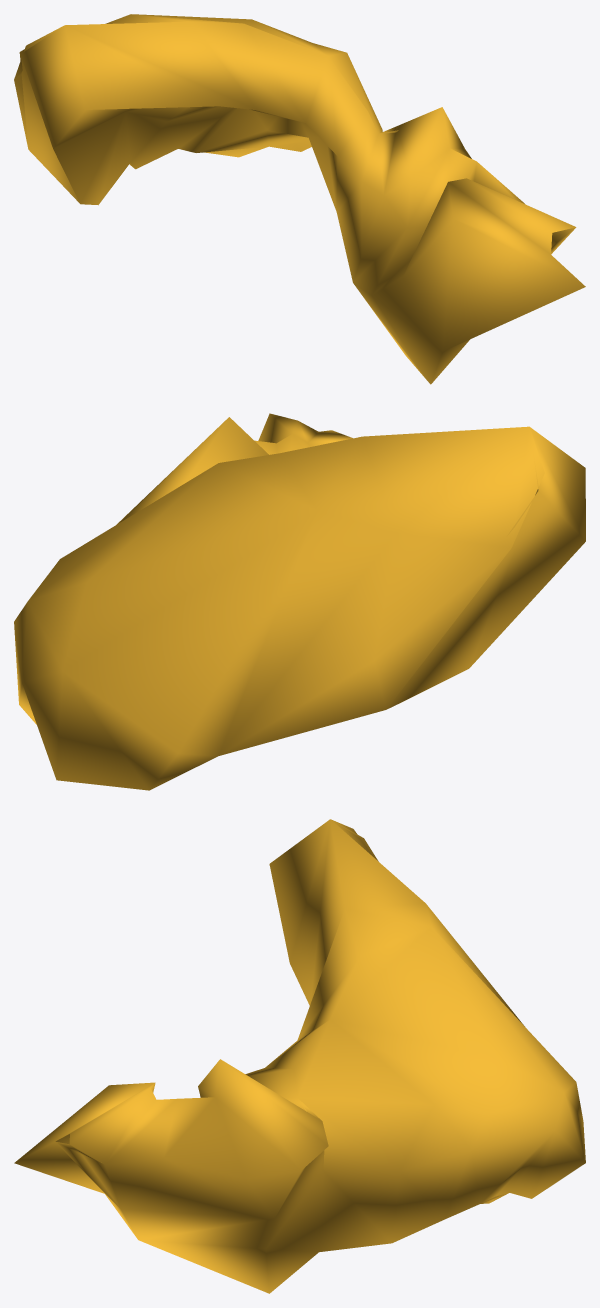
Rendered from nervoso-orbital-part-of-inferior-frontal-gyrus-l.glb.
3 renders of one model, top to bottom at view 1: azimuth 30°, elevation 25°; view 2: azimuth 150°, elevation 25°; view 3: azimuth 270°, elevation 25°, orthographic. The views are drawn at different scales.
Parts seen in each view (by area): view 1: Orbital part of inferior frontal gyrus.l; view 2: Orbital part of inferior frontal gyrus.l; view 3: Orbital part of inferior frontal gyrus.l.
Part boxes in pixels (x1=…): Orbital part of inferior frontal gyrus.l: x1=14, y1=14, x2=585, y2=384; Orbital part of inferior frontal gyrus.l: x1=14, y1=413, x2=585, y2=790; Orbital part of inferior frontal gyrus.l: x1=14, y1=819, x2=585, y2=1293.
Size of the model in its own units: 0.0173 by 0.0152 by 0.0231.
